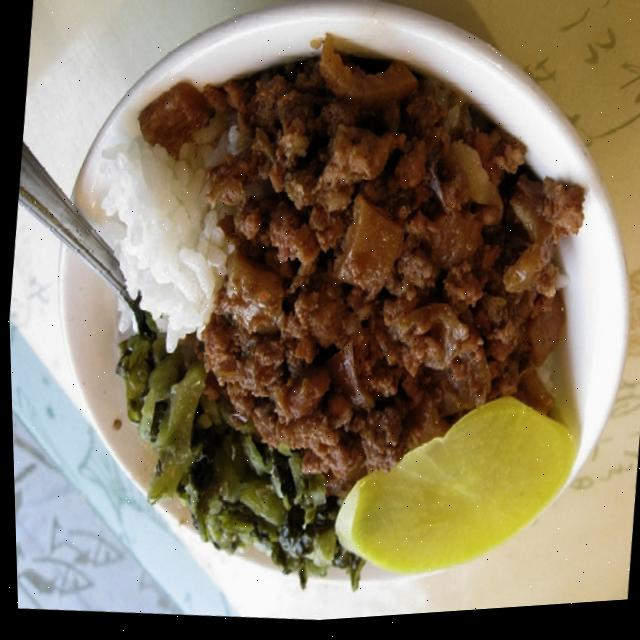猪肉菜式: (27, 0, 640, 597)
